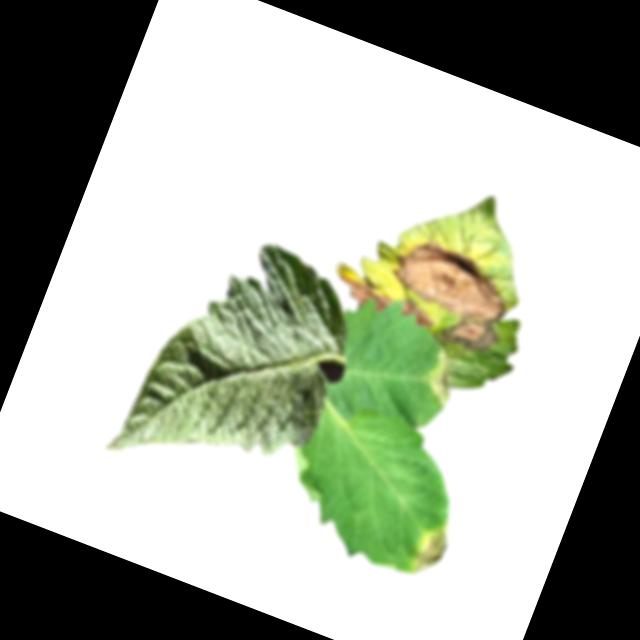Late_blight: (373, 232, 523, 362), (403, 515, 457, 584), (421, 348, 467, 408), (331, 272, 395, 315), (397, 298, 437, 330)
healthy: (103, 214, 370, 518)
